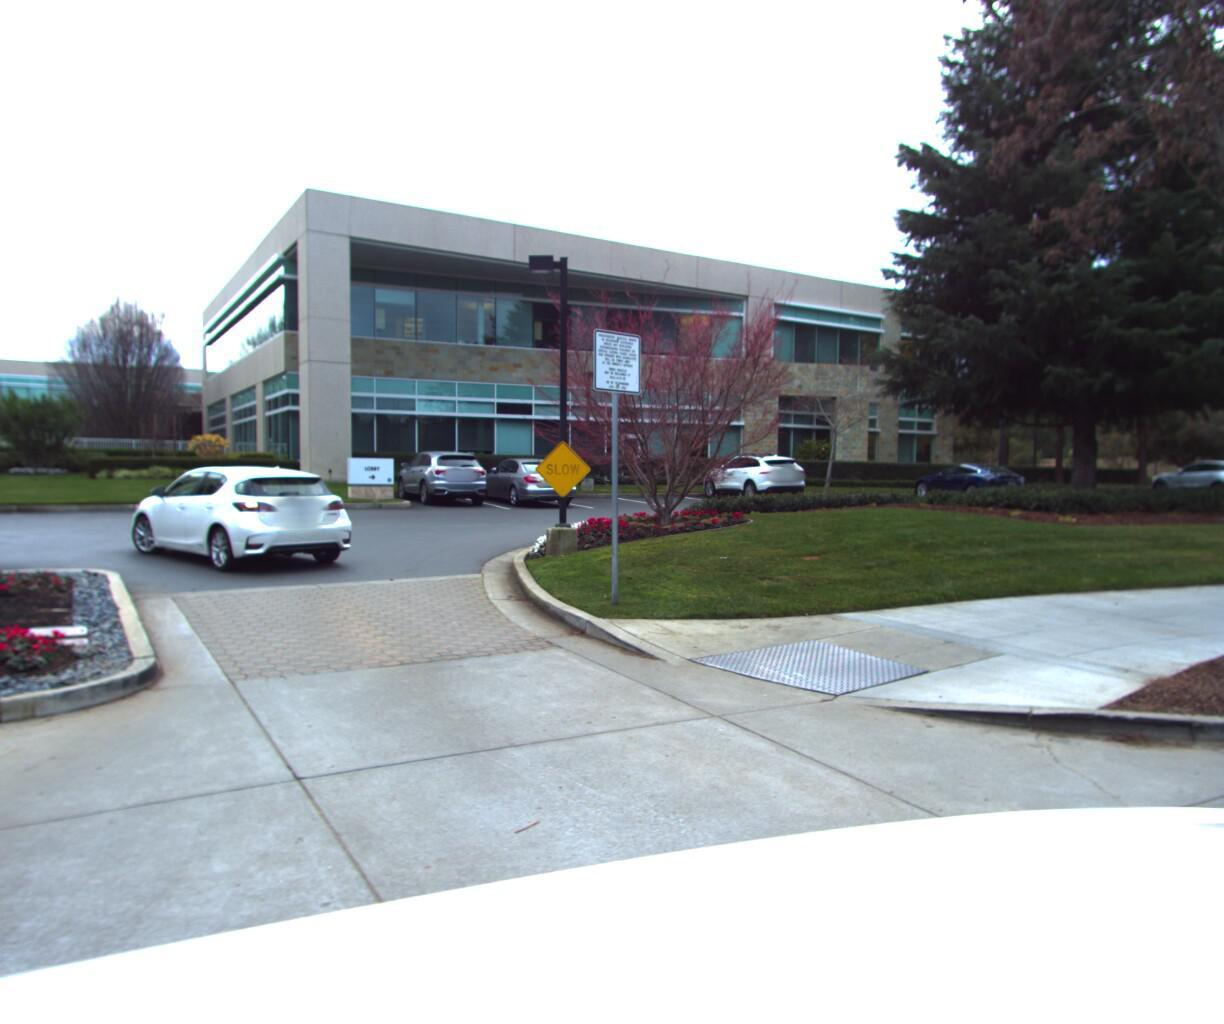car: (106, 461, 360, 574)
